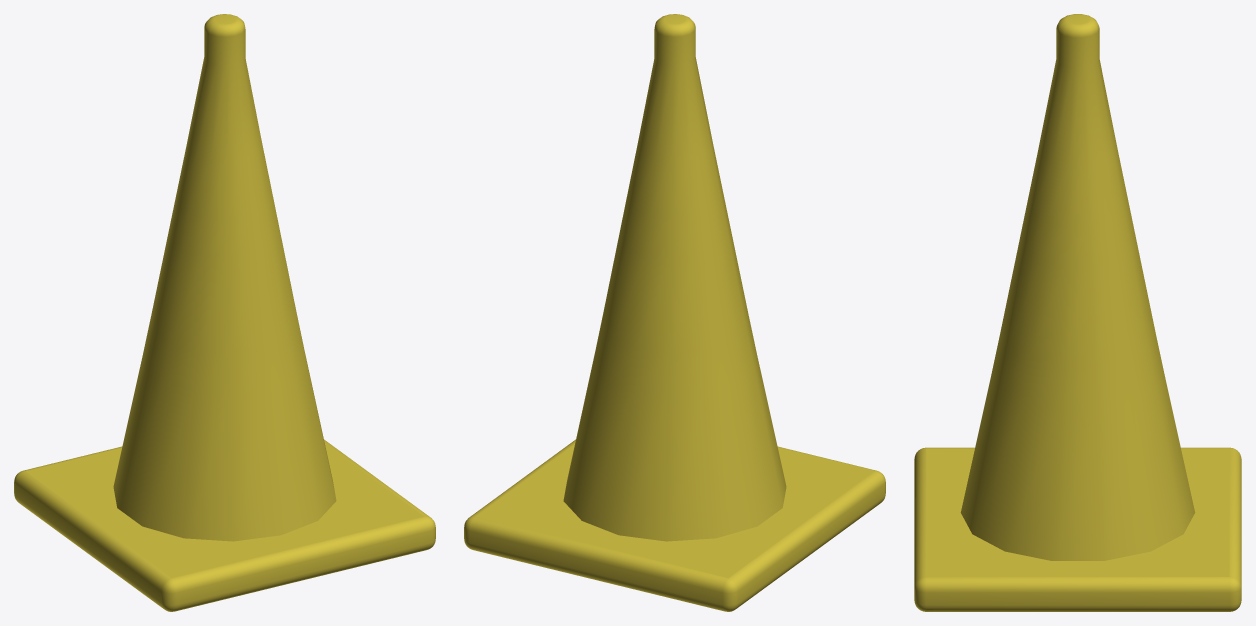
3 renders of one model, left to right at view 1: azimuth 30°, elevation 25°; view 2: azimuth 150°, elevation 25°; view 3: azimuth 270°, elevation 25°, orthographic. The views are drawn at different scales.
Visible parts, largest first — view 1: Cone; view 2: Cone; view 3: Cone.
Part boxes in pixels (<box>): Cone: <box>14,14,435,611</box>; Cone: <box>464,14,885,611</box>; Cone: <box>914,14,1241,611</box>.
Size of the model in its own units: 0.5313 by 0.9445 by 0.5313.
